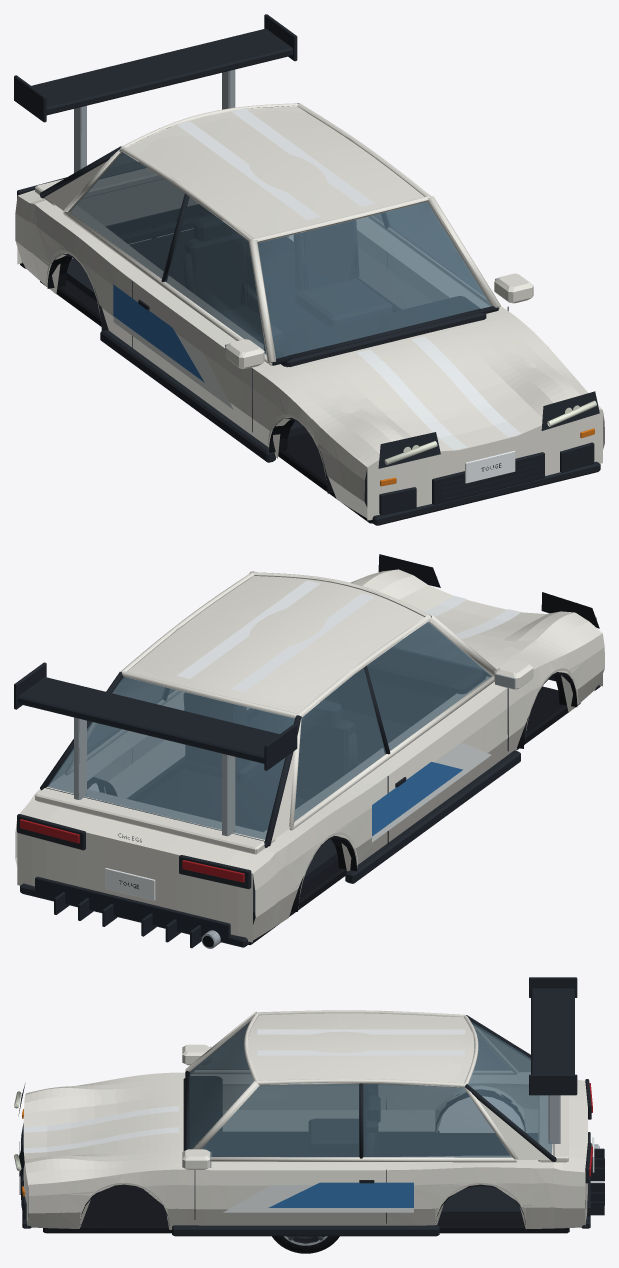
The picture shows the model from 3 angles, top to bottom: view 1: azimuth 30°, elevation 25°; view 2: azimuth 150°, elevation 25°; view 3: azimuth 270°, elevation 25°; orthographic projection. The views are drawn at different scales.
Parts seen in each view (by area): view 1: LOD0_cabin, LOD0_body, LOD0_glass, LOD1_glass, LOD1_body, LOD0_hood, LOD1_hood, LOD1_spoiler_gt, LOD1_cabin, LOD0_spoiler_gt, LOD0_vinyl_twin, LOD0_vinyl_apex (+1 smaller); view 2: LOD0_body, LOD0_cabin, LOD0_glass, LOD1_glass, LOD1_body, LOD1_cabin, LOD1_spoiler_gt, LOD0_spoiler_gt, LOD0_vinyl_apex, LOD0_hood, LOD1_hood, LOD1_spoiler_stock (+3 smaller); view 3: LOD0_body, LOD0_cabin, LOD0_glass, LOD1_glass, LOD1_body, LOD0_hood, LOD1_cabin, LOD0_vinyl_apex, LOD1_hood, LOD1_spoiler_gt, LOD0_vinyl_twin, LOD0_spoiler_gt (+4 smaller).
Boxes of the visible parts, x1,y1,x2,y2 form: LOD0_cabin: (40, 103, 500, 437); LOD0_body: (15, 177, 604, 525); LOD0_glass: (70, 152, 491, 358); LOD1_glass: (70, 153, 490, 358); LOD1_body: (15, 179, 604, 525); LOD0_hood: (275, 315, 580, 453); LOD1_hood: (321, 335, 562, 451); LOD1_spoiler_gt: (14, 28, 297, 168); LOD1_cabin: (41, 103, 500, 436); LOD0_spoiler_gt: (14, 14, 297, 172); LOD0_vinyl_twin: (177, 108, 506, 447); LOD0_vinyl_apex: (113, 284, 233, 409); LOD0_body: (15, 554, 604, 948); LOD0_cabin: (40, 571, 496, 919); LOD0_glass: (48, 622, 491, 839); LOD1_glass: (48, 622, 491, 839); LOD1_body: (15, 576, 603, 948); LOD1_cabin: (40, 571, 494, 919); LOD1_spoiler_gt: (14, 662, 296, 835); LOD0_spoiler_gt: (14, 663, 297, 836); LOD0_vinyl_apex: (372, 742, 491, 842); LOD0_hood: (352, 569, 588, 678); LOD1_hood: (366, 582, 545, 659); LOD1_spoiler_stock: (35, 782, 266, 854); LOD0_body: (14, 1044, 604, 1236); LOD0_cabin: (183, 1010, 556, 1217); LOD0_glass: (189, 1020, 552, 1157); LOD1_glass: (189, 1022, 551, 1157); LOD1_body: (15, 1045, 599, 1235); LOD0_hood: (24, 1078, 184, 1173); LOD1_cabin: (189, 1011, 554, 1216); LOD0_vinyl_apex: (223, 1182, 413, 1212); LOD1_hood: (23, 1087, 169, 1161); LOD1_spoiler_gt: (529, 978, 573, 1143); LOD0_vinyl_twin: (25, 1029, 465, 1152); LOD0_spoiler_gt: (529, 977, 577, 1143).
Bounding box in the file's own units: 1.96 × 1.77 × 4.26.
